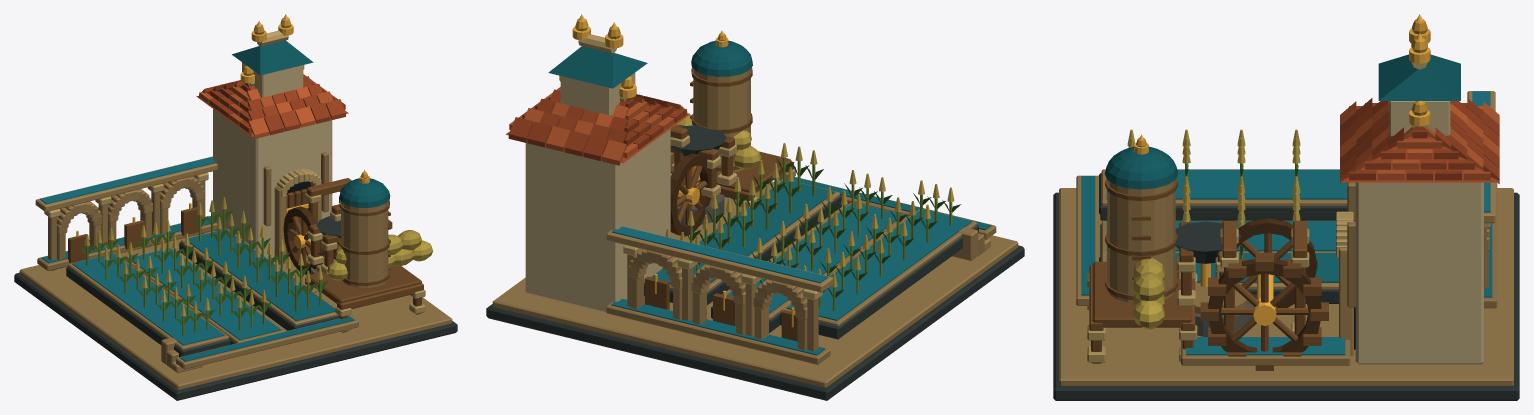
The picture shows the model from 3 angles, left to right: view 1: azimuth 30°, elevation 25°; view 2: azimuth 150°, elevation 25°; view 3: azimuth 270°, elevation 25°; orthographic projection. The views are drawn at different scales.
Visible parts, largest first — view 1: farm_13_structure, farm_13_metal; view 2: farm_13_structure, farm_13_metal; view 3: farm_13_structure, farm_13_metal.
Boxes of the visible parts, x1,y1,x2,y2 form: farm_13_structure: [14, 18, 457, 400]; farm_13_metal: [76, 14, 369, 249]; farm_13_structure: [486, 19, 1024, 400]; farm_13_metal: [559, 14, 794, 327]; farm_13_structure: [1053, 19, 1519, 400]; farm_13_metal: [1134, 14, 1430, 325].
Bounding box in the file's own units: 5.6 × 4.37 × 5.46.
